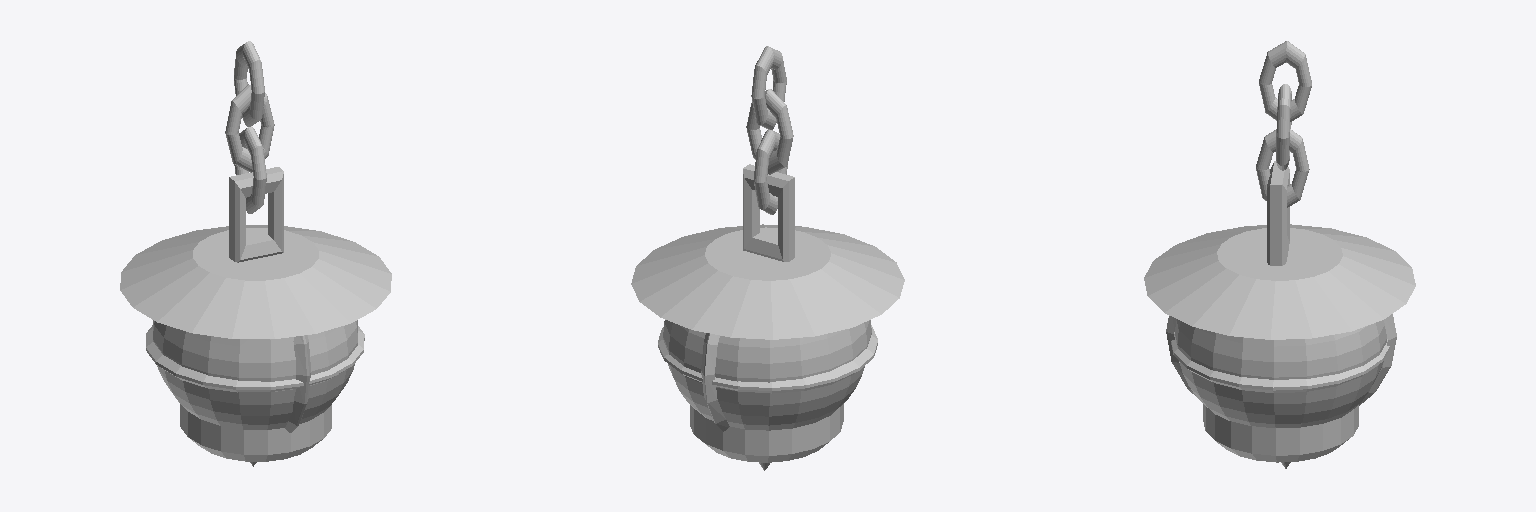
Rendered from lanternHP.obj.
The picture shows the model from 3 angles: view 1: azimuth 30°, elevation 25°; view 2: azimuth 150°, elevation 25°; view 3: azimuth 270°, elevation 25°; orthographic projection.
Visible parts, largest first — view 1: default; view 2: default; view 3: default.
Part boxes in pixels (left/top/right/bottom): default: left=120, top=41, right=391, bottom=466; default: left=631, top=46, right=904, bottom=470; default: left=1144, top=41, right=1415, bottom=468.
Size of the model in its own units: 0.9885 by 1.7 by 0.9819.